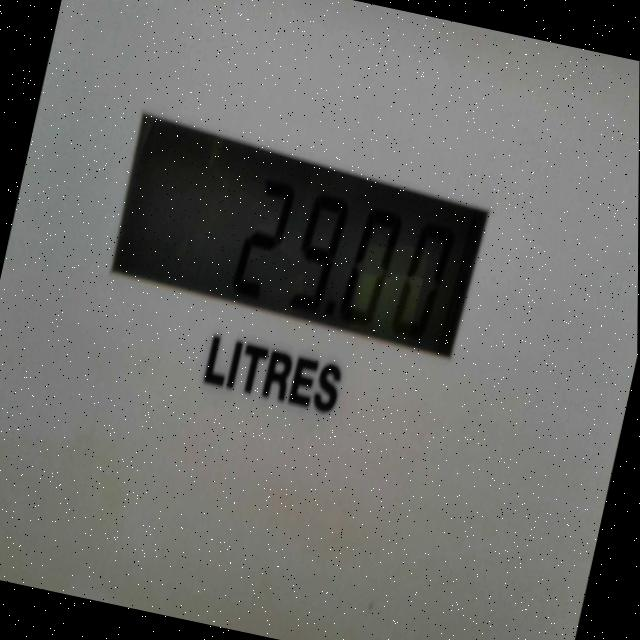.: (318, 284, 343, 336)
0: (382, 200, 468, 352), (335, 195, 410, 334)
2: (217, 153, 305, 320)
9: (280, 176, 352, 320)
